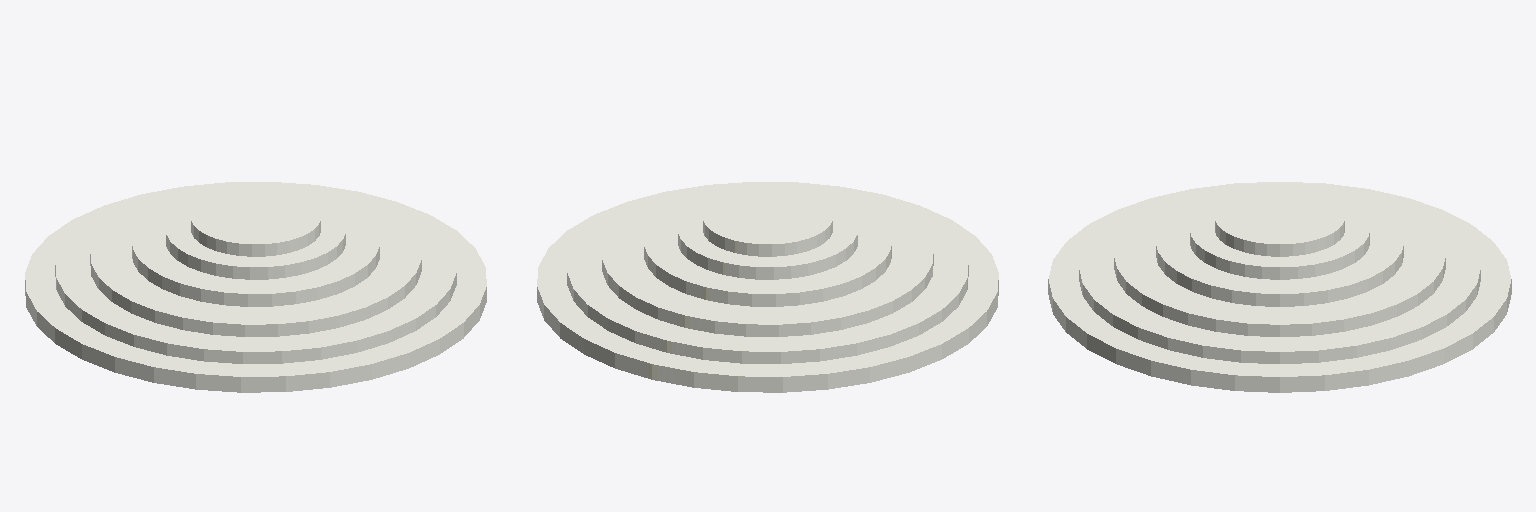
3 renders of one model, left to right at view 1: azimuth 30°, elevation 25°; view 2: azimuth 150°, elevation 25°; view 3: azimuth 270°, elevation 25°, orthographic.
Visible parts, largest first — view 1: Cylinder.003, Cylinder.004, Cylinder.005, Cylinder.002, Cylinder, Cylinder.001; view 2: Cylinder.003, Cylinder.004, Cylinder.005, Cylinder.002, Cylinder, Cylinder.001; view 3: Cylinder.003, Cylinder.004, Cylinder.005, Cylinder.002, Cylinder, Cylinder.001.
Boxes of the visible parts, box(x1,y1,x2,y2) form: Cylinder.003: box(25, 182, 486, 392); Cylinder.004: box(55, 182, 456, 363); Cylinder.005: box(90, 185, 421, 336); Cylinder.002: box(132, 189, 379, 306); Cylinder: box(191, 189, 320, 256); Cylinder.001: box(166, 195, 345, 279); Cylinder.003: box(537, 182, 998, 392); Cylinder.004: box(567, 182, 968, 363); Cylinder.005: box(602, 185, 933, 336); Cylinder.002: box(644, 189, 891, 306); Cylinder: box(703, 189, 832, 256); Cylinder.001: box(678, 195, 857, 279); Cylinder.003: box(1048, 182, 1511, 392); Cylinder.004: box(1079, 182, 1480, 363); Cylinder.005: box(1114, 185, 1445, 336); Cylinder.002: box(1156, 189, 1403, 306); Cylinder: box(1215, 189, 1344, 256); Cylinder.001: box(1190, 195, 1369, 279).
Size of the model in its own units: 40.04 by 7.47 by 40.04.
1 materials, 1 textured.